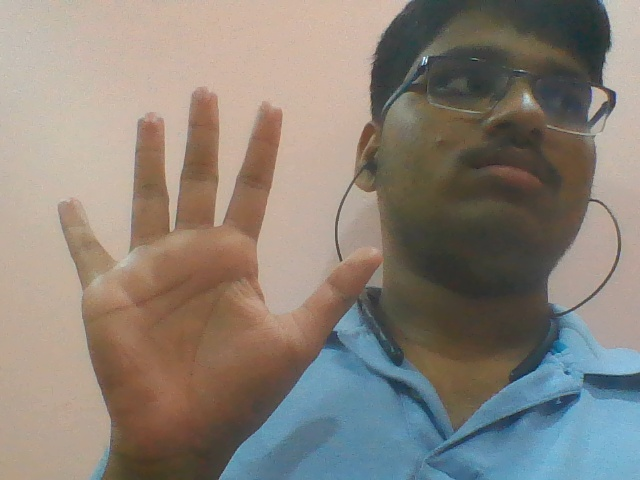Hello: (49, 86, 385, 455)
